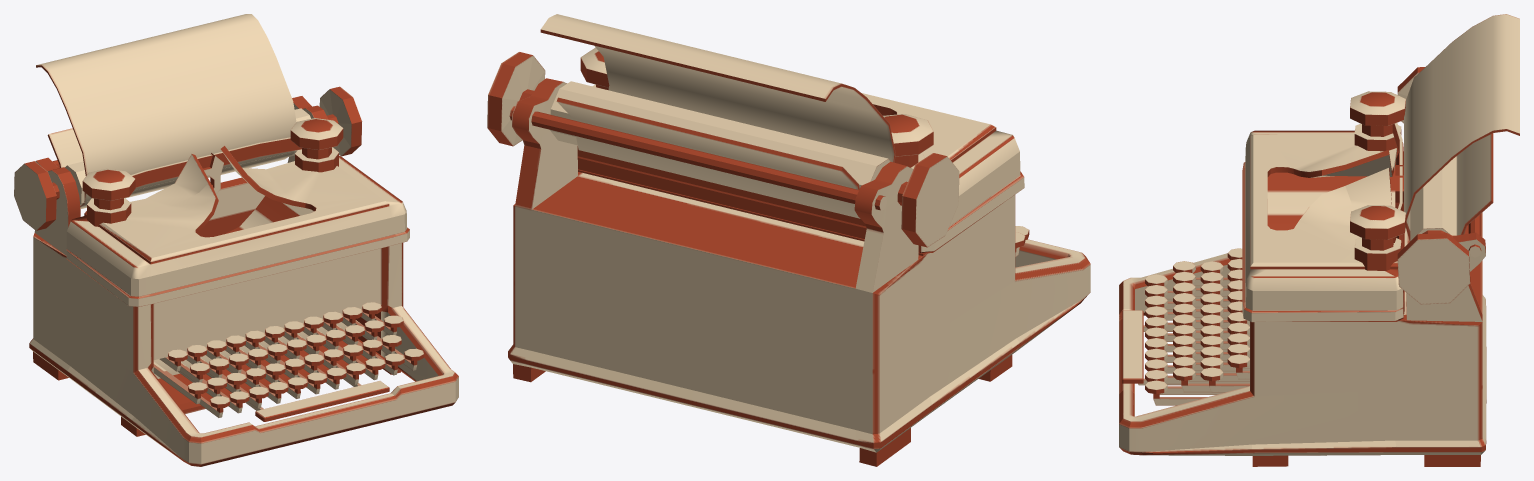
File: Typemachine.fbx
3 renders of one model, left to right at view 1: azimuth 30°, elevation 25°; view 2: azimuth 150°, elevation 25°; view 3: azimuth 270°, elevation 25°, orthographic. The views are drawn at different scales.
Parts seen in each view (by area): view 1: pCube15, pCube18, pCylinder9, pCylinder46, pCylinder8, pCube17, pCube20, pCube16, pCylinder32, pCylinder43; view 2: pCube15, pCube18, pCylinder9, pCylinder10, pCylinder46, pCylinder8; view 3: pCube15, pCube18, pCylinder9, pCube16, pCylinder8, pCylinder46, pCube20, pCylinder33, pCylinder22, pCylinder18, pCylinder34, pCylinder35 (+2 smaller).
Part boxes in pixels (x1,y1,x2,y2): pCube15: (29, 96, 458, 466); pCube18: (36, 14, 296, 209); pCylinder9: (14, 86, 362, 230); pCylinder46: (82, 168, 135, 226); pCylinder8: (290, 118, 343, 172); pCube17: (131, 137, 301, 187); pCube20: (255, 381, 389, 421); pCube16: (225, 196, 313, 233); pCylinder32: (153, 364, 207, 404); pCylinder43: (153, 361, 229, 417); pCube15: (508, 78, 1090, 466); pCube18: (540, 14, 895, 218); pCylinder9: (487, 52, 959, 247); pCylinder10: (509, 106, 887, 210); pCylinder46: (883, 114, 933, 168); pCylinder8: (580, 47, 609, 89); pCube15: (1119, 130, 1486, 466); pCube18: (1404, 14, 1519, 241); pCylinder9: (1397, 67, 1470, 304); pCube16: (1267, 166, 1395, 230); pCylinder8: (1350, 205, 1405, 270); pCylinder46: (1350, 91, 1405, 165); pCube20: (1122, 310, 1143, 383); pCylinder33: (1145, 380, 1207, 405); pCylinder22: (1173, 367, 1249, 392); pCylinder18: (1200, 367, 1249, 392); pCylinder34: (1145, 370, 1223, 394); pCylinder35: (1145, 359, 1249, 384).
Bounding box in the file's own units: 2.13 × 1.83 × 2.09.
